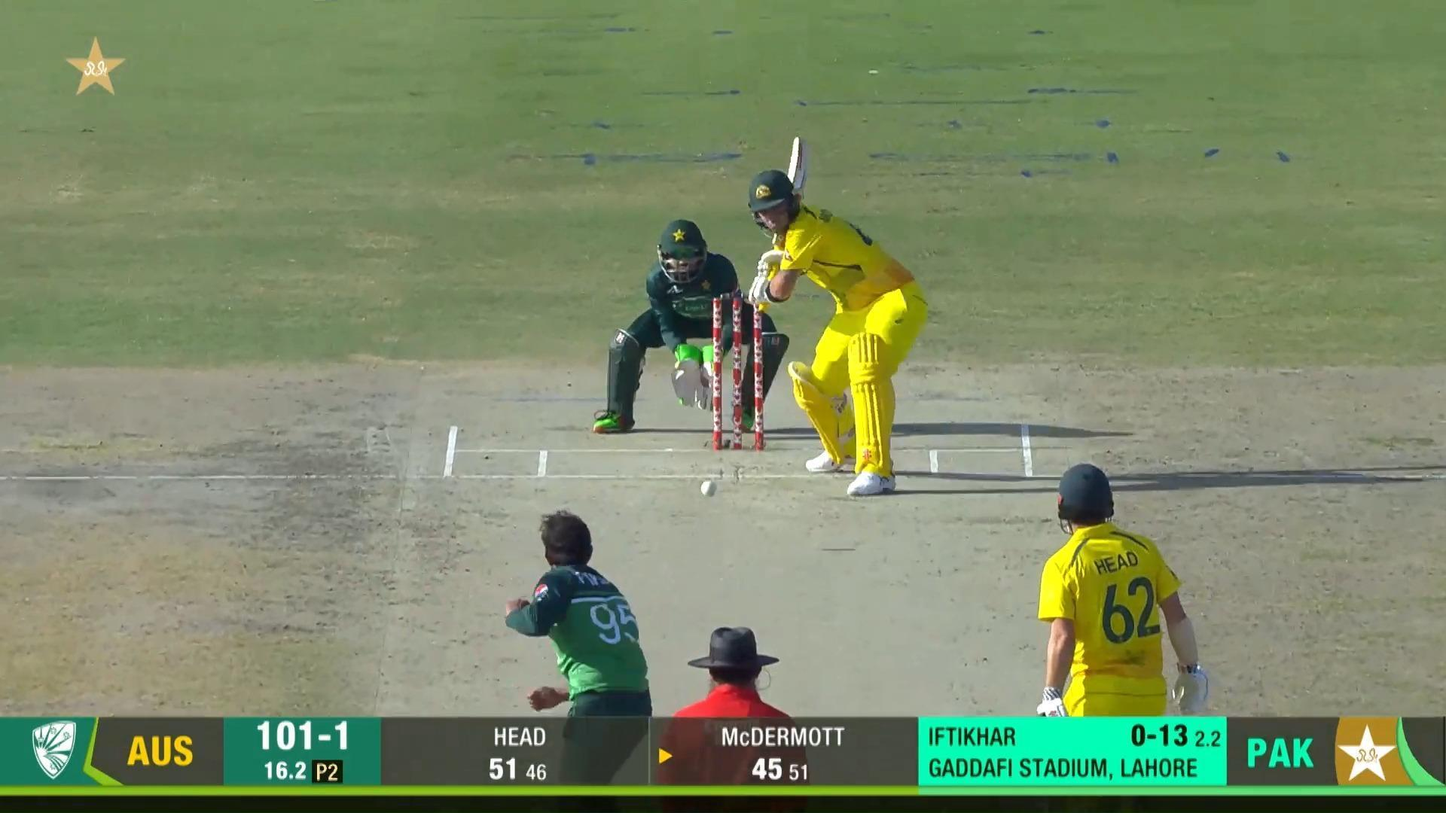BM 1: (747, 136, 928, 498)
BO: (504, 507, 658, 799)
